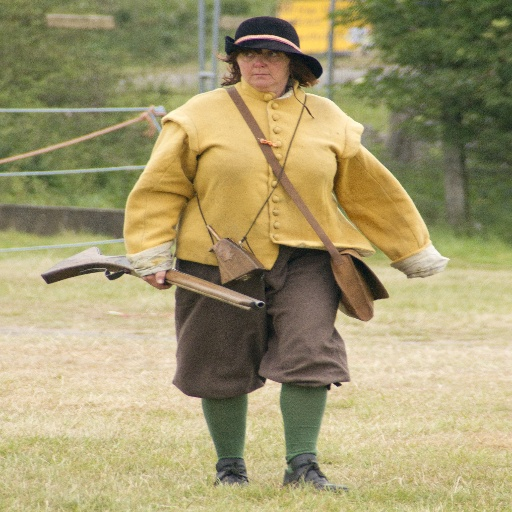hand: (139, 271, 174, 289)
